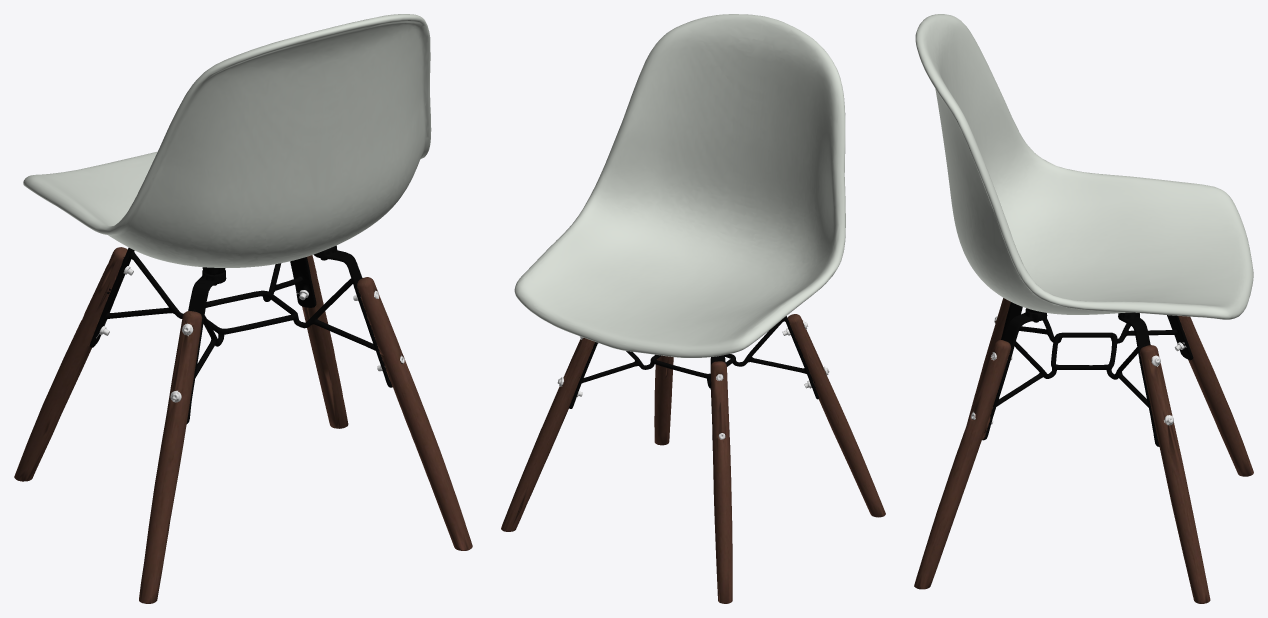
File: ND-0607__Elon9.glb
3 views of the same model, side by side, from view 1: azimuth 30°, elevation 25°; view 2: azimuth 150°, elevation 25°; view 3: azimuth 270°, elevation 25° (orthographic). The views are drawn at different scales.
Parts seen in each view (by area): view 1: tripo_node_aeb78299-7747-400a-b60e-9c411fa0cf6e, tripo_node_aeb78299-7747-400a-b60e-9c411fa0cf6e.001, tripo_node_aeb78299-7747-400a-b60e-9c411fa0cf6e.003; view 2: tripo_node_aeb78299-7747-400a-b60e-9c411fa0cf6e, tripo_node_aeb78299-7747-400a-b60e-9c411fa0cf6e.001, tripo_node_aeb78299-7747-400a-b60e-9c411fa0cf6e.003; view 3: tripo_node_aeb78299-7747-400a-b60e-9c411fa0cf6e, tripo_node_aeb78299-7747-400a-b60e-9c411fa0cf6e.001, tripo_node_aeb78299-7747-400a-b60e-9c411fa0cf6e.003.
Part boxes in pixels (<box>): tripo_node_aeb78299-7747-400a-b60e-9c411fa0cf6e: <box>23,14,431,267</box>; tripo_node_aeb78299-7747-400a-b60e-9c411fa0cf6e.001: <box>14,247,472,603</box>; tripo_node_aeb78299-7747-400a-b60e-9c411fa0cf6e.003: <box>89,245,392,423</box>; tripo_node_aeb78299-7747-400a-b60e-9c411fa0cf6e: <box>514,14,845,357</box>; tripo_node_aeb78299-7747-400a-b60e-9c411fa0cf6e.001: <box>501,314,885,603</box>; tripo_node_aeb78299-7747-400a-b60e-9c411fa0cf6e.003: <box>569,316,819,450</box>; tripo_node_aeb78299-7747-400a-b60e-9c411fa0cf6e: <box>915,14,1253,319</box>; tripo_node_aeb78299-7747-400a-b60e-9c411fa0cf6e.001: <box>914,298,1253,603</box>; tripo_node_aeb78299-7747-400a-b60e-9c411fa0cf6e.003: <box>982,302,1193,446</box>.
Bounding box in the file's own units: 0.6284 × 0.9794 × 0.61.
Materials: 10 (2 with a texture image).
